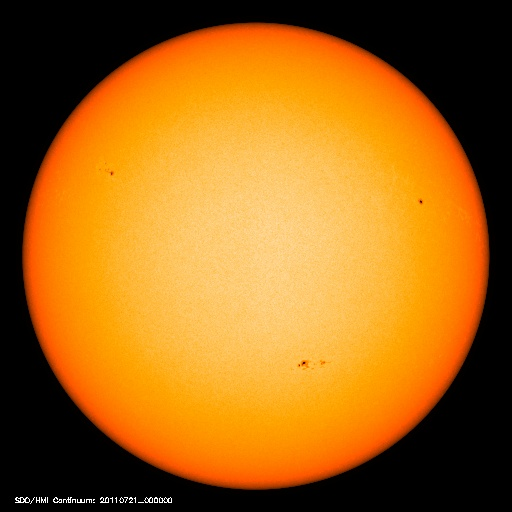sunspot: (286, 349, 336, 379), (85, 152, 123, 186), (403, 188, 434, 214)
